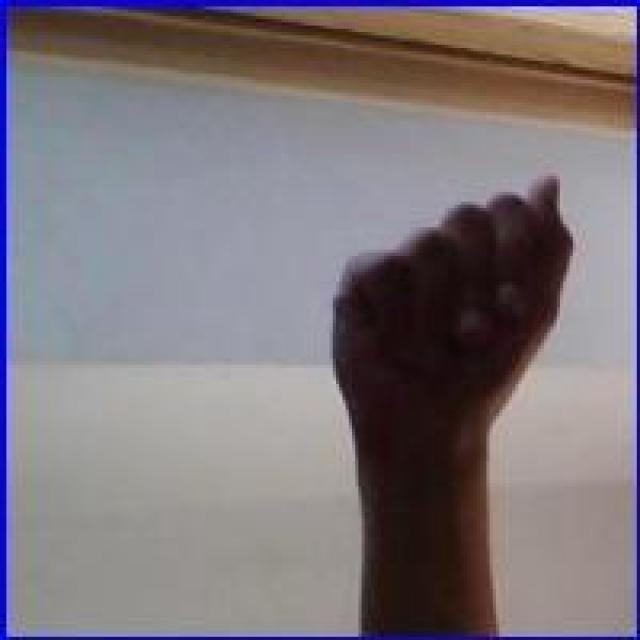A: (333, 165, 579, 453)
